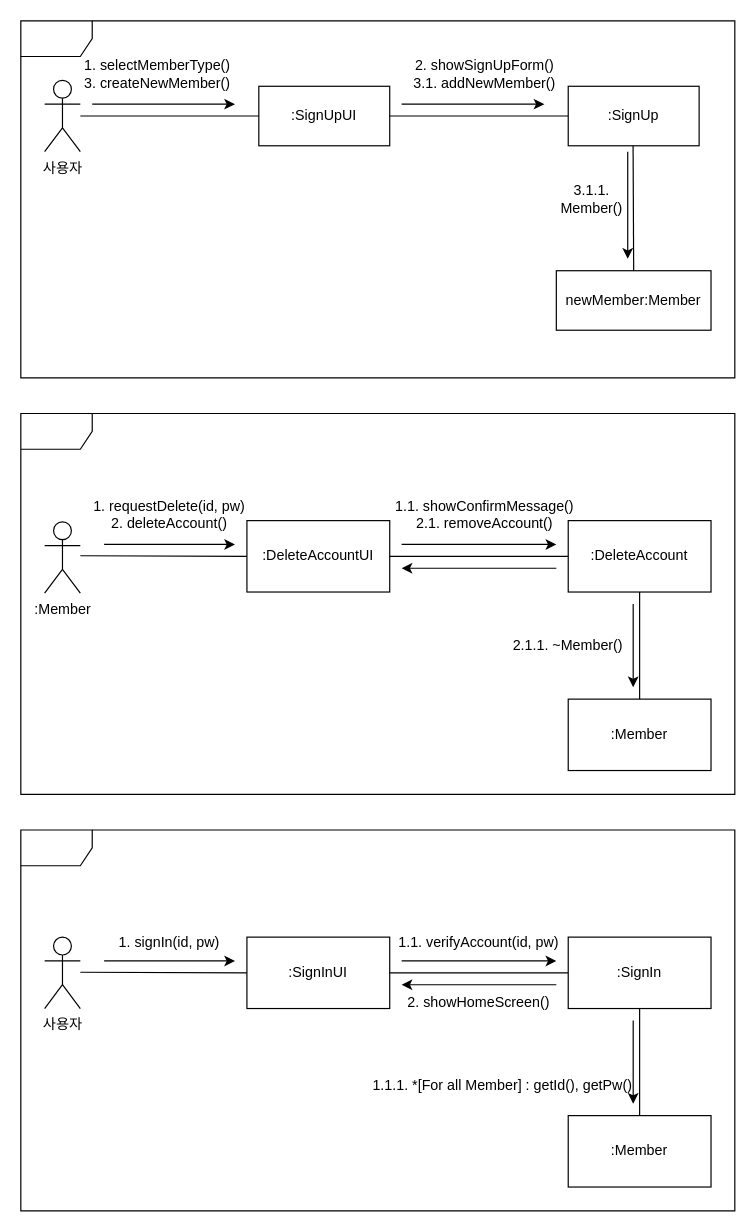
Image size: 756x1232. Some labels were removed from this diagram. Each missing label, with the box of its shape:
로그인: (20, 829, 735, 1211)
회원가입: (20, 20, 735, 378)
회원탈퇴: (20, 412, 735, 794)
